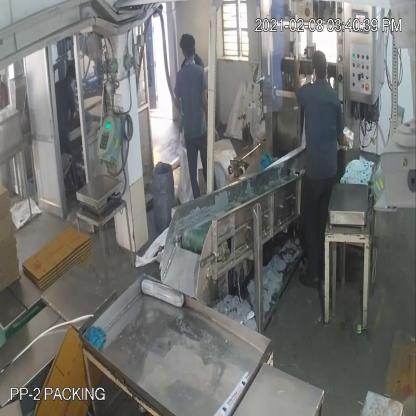no_glove: (287, 52, 306, 104)
